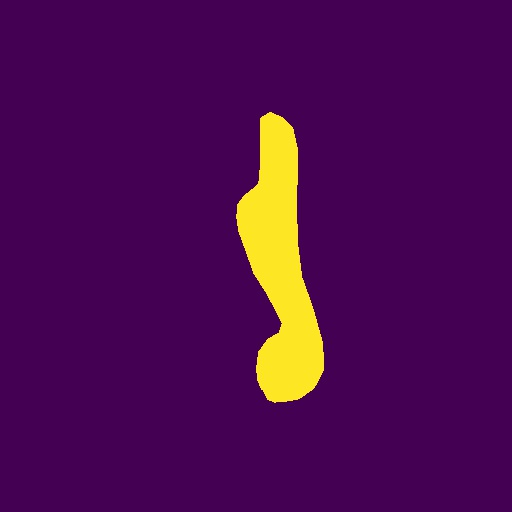Gliomia_tumour: (236, 112, 324, 403)
